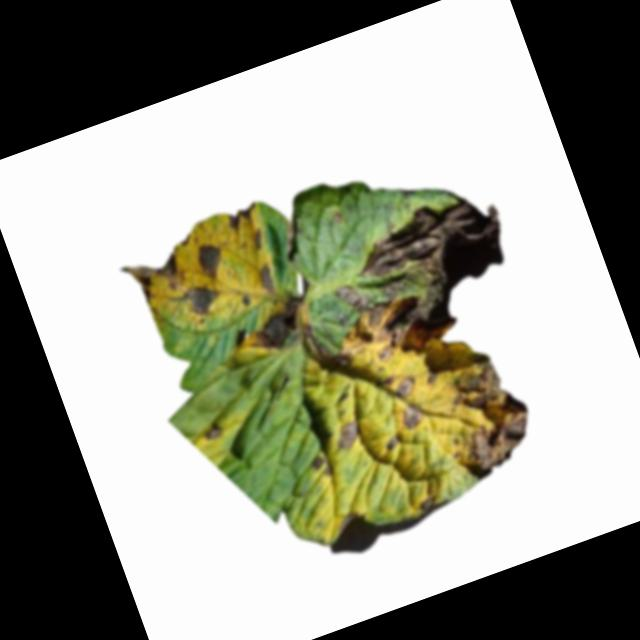Early_blight: (348, 179, 517, 313), (427, 344, 544, 483), (351, 277, 471, 387), (238, 289, 315, 359), (115, 246, 185, 308), (297, 318, 358, 387), (178, 278, 225, 321), (190, 238, 230, 282), (334, 277, 370, 314), (223, 201, 262, 235), (332, 418, 365, 454), (386, 370, 422, 402), (249, 260, 279, 298), (396, 401, 425, 432), (197, 417, 224, 446), (413, 490, 442, 516), (419, 367, 440, 390), (246, 227, 266, 251), (380, 431, 404, 451)
